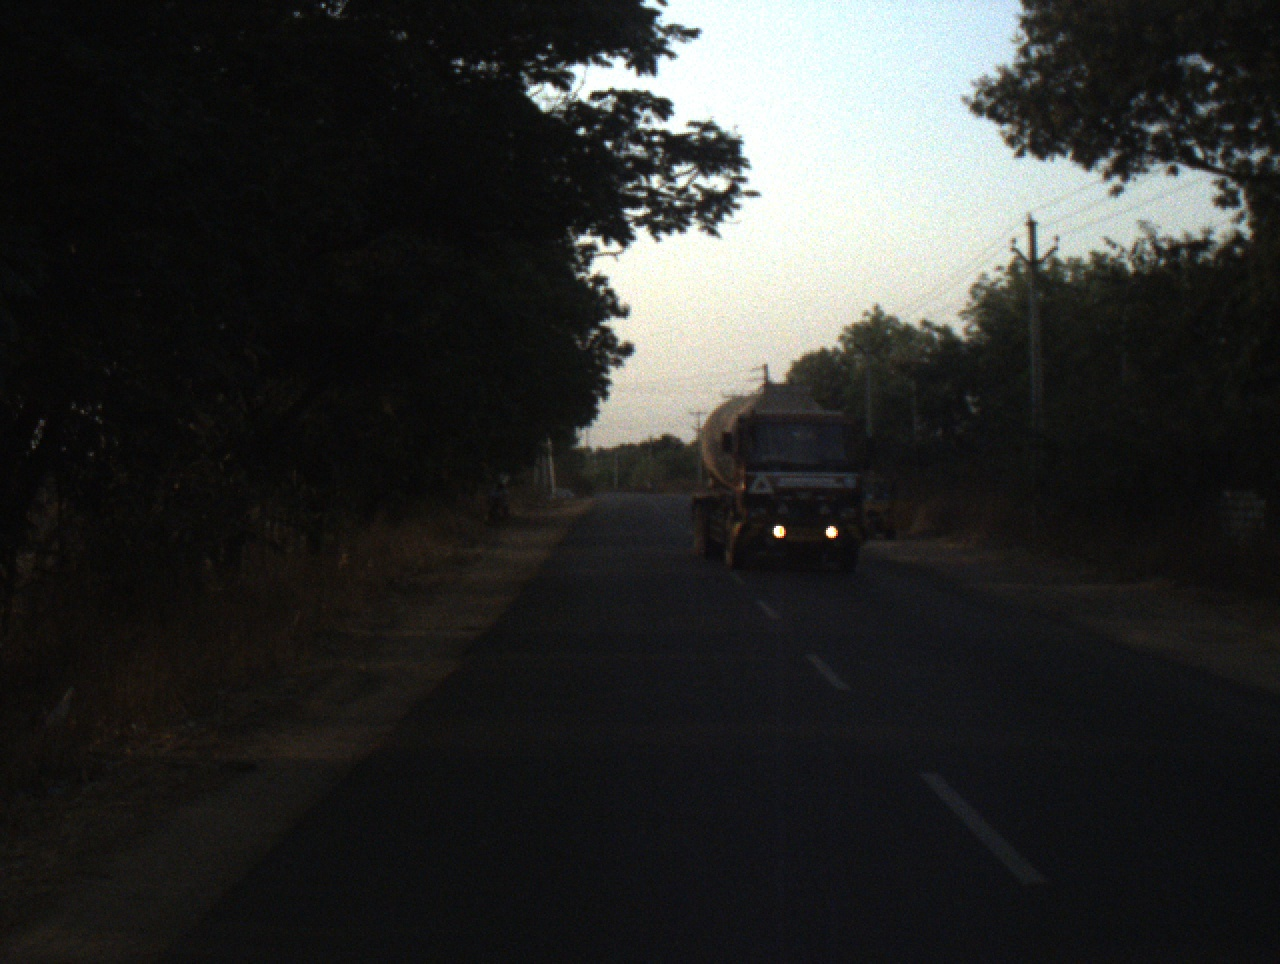autorickshaw: (850, 471, 909, 546)
truck: (691, 376, 867, 575)
